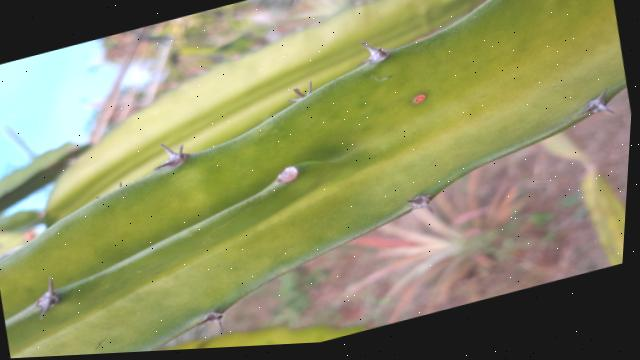stemcanker: (405, 89, 435, 111)
